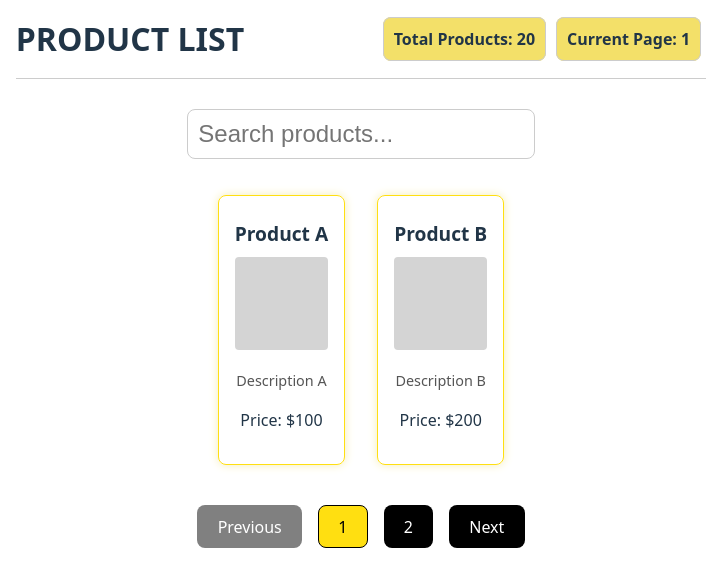
it: ProductList Component › handles pagination buttons
The width and height of the screenshot is (723, 565).
Expected: the text "Current Page: 1" is shown, [556, 17, 701, 61]
What coordinates should you click on to do the following:
click the button "Next"
I would click on:
 (487, 527)
Its box is [449, 505, 524, 548].
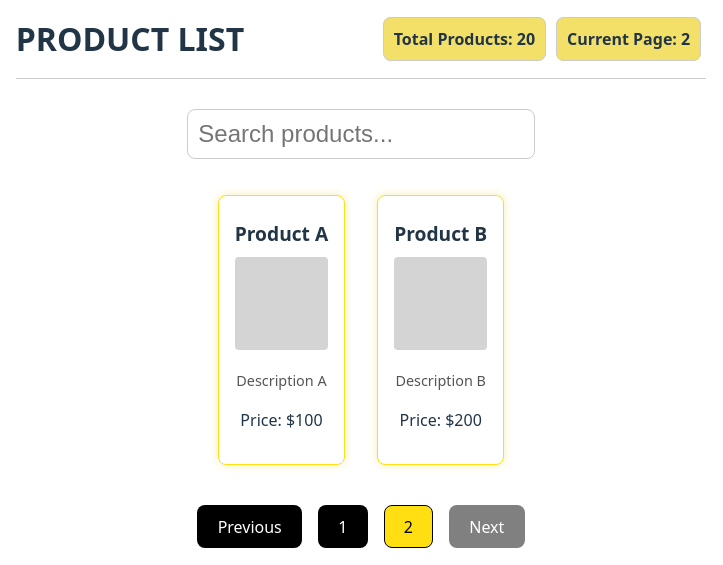
Result: the text "Current Page: 2" is shown at [556, 17, 701, 61]
What coordinates should you click on to do the following:
click the button "Previous"
I would click on:
 (250, 527)
Its box is [197, 505, 302, 548].
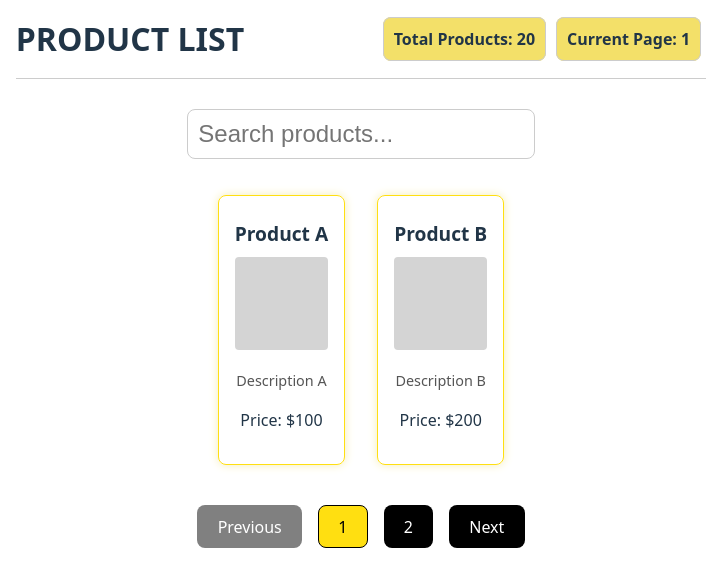
Result: the text "Current Page: 1" is shown at [556, 17, 701, 61]
